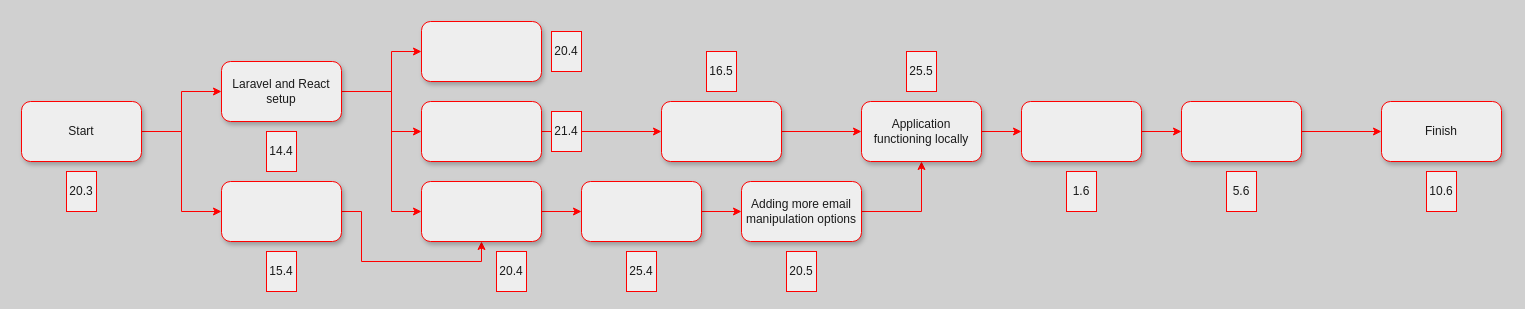
The diagram is 1525 pixels wide and 309 high, and some of its shapes have lost their labels. The centre of each missing label's shape, as x and y in pixels:
"Connecting the backend and local database" goes at (482,212).
"Creating other needed components" goes at (722,132).
"Creating user interface components" goes at (482,132).
"Deployment" goes at (1242,132).
"Github repo and project setup" goes at (482,52).
"Implementing email sending and receiving" goes at (642,212).
"Live server setup" goes at (1082,132).
"MySql database setup" goes at (282,212).
